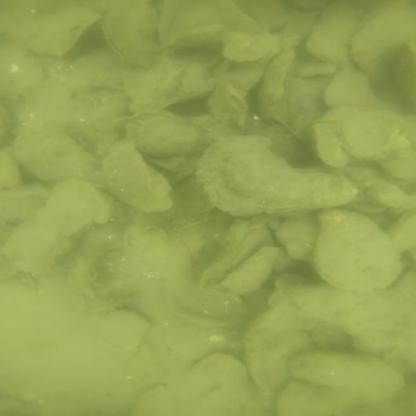Oyster-Closed: (192, 133, 361, 216), (310, 206, 404, 292), (289, 349, 408, 405), (102, 143, 174, 213), (11, 129, 104, 181), (309, 108, 400, 159), (126, 60, 215, 111), (16, 7, 104, 55), (103, 0, 162, 70), (305, 0, 362, 66), (126, 115, 208, 157), (220, 247, 282, 293), (326, 71, 379, 108), (164, 24, 227, 51), (351, 8, 377, 71), (315, 126, 351, 167)
